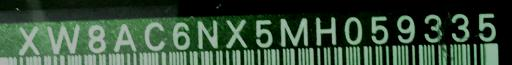letter: (44, 24, 82, 55), (280, 18, 310, 47), (224, 17, 250, 50), (110, 23, 138, 52), (194, 19, 220, 50), (314, 14, 338, 47), (16, 24, 40, 55), (476, 12, 500, 41), (168, 19, 192, 48), (142, 21, 166, 50), (342, 13, 364, 44), (369, 13, 391, 44), (424, 11, 444, 44), (252, 18, 276, 45), (84, 25, 108, 52), (394, 13, 416, 42), (449, 14, 471, 43)
